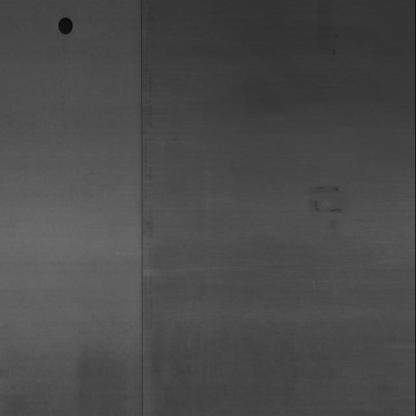punching_hole: (52, 12, 79, 42)
welding_line: (121, 0, 160, 411)
